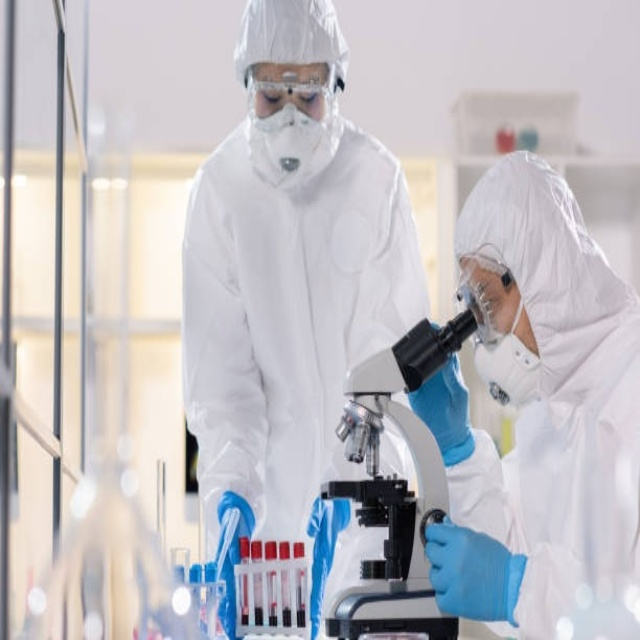Gafas: (455, 252, 517, 344), (247, 65, 339, 109)
Guantes: (423, 518, 520, 626), (403, 326, 475, 468), (307, 496, 352, 640), (212, 492, 255, 640)
Mascara: (248, 88, 336, 185), (472, 293, 542, 408)
